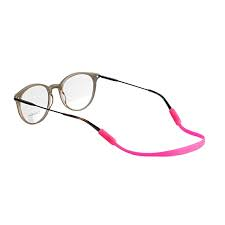g.y: (16, 69, 96, 149)
